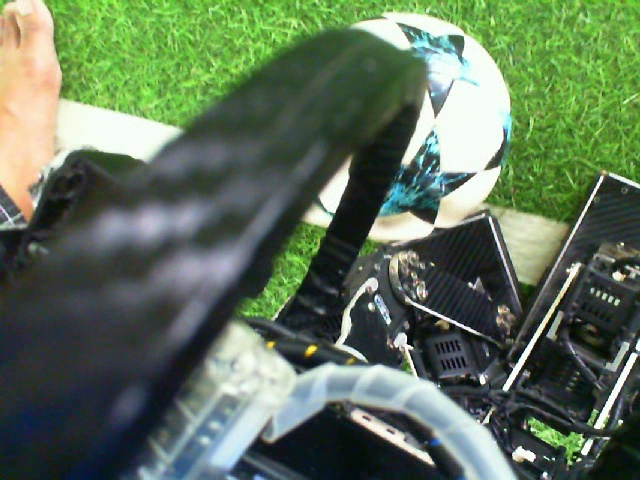ball: (362, 11, 516, 249)
